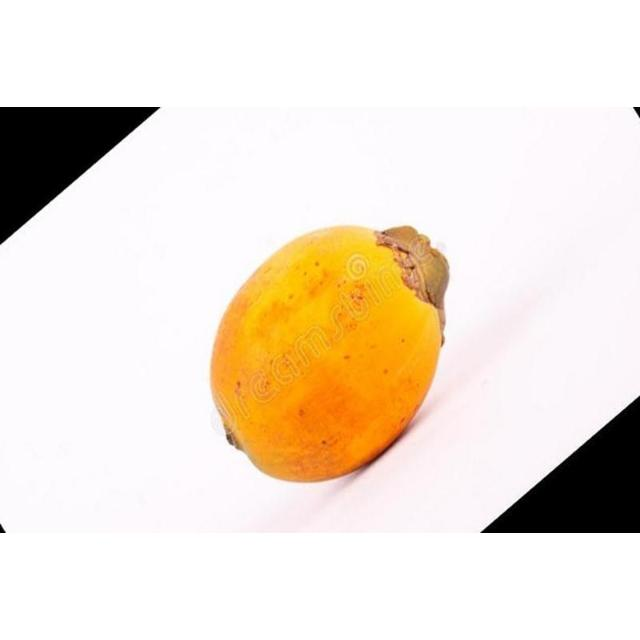good: (208, 225, 450, 485)
